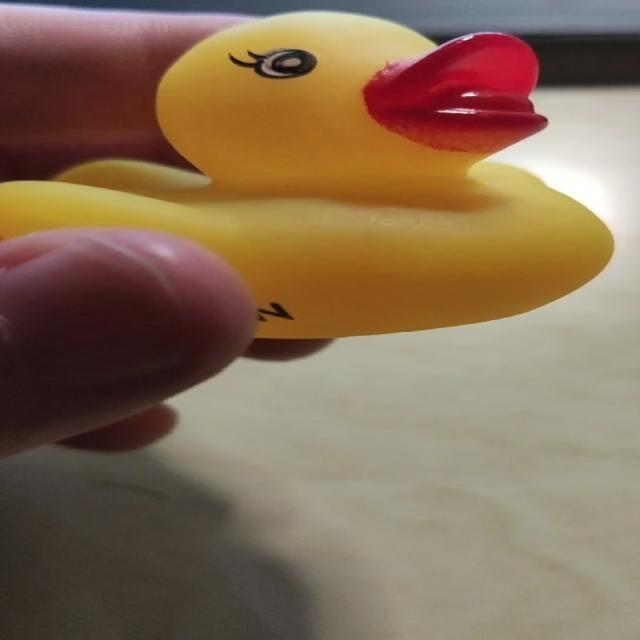rubber-duck: (0, 11, 611, 336)
